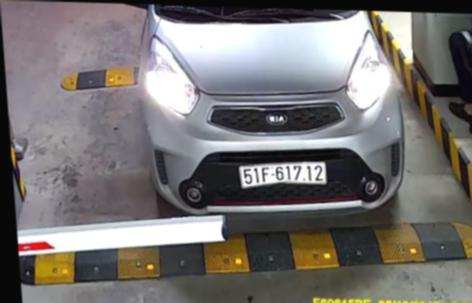License_Plate: (233, 157, 332, 192)
